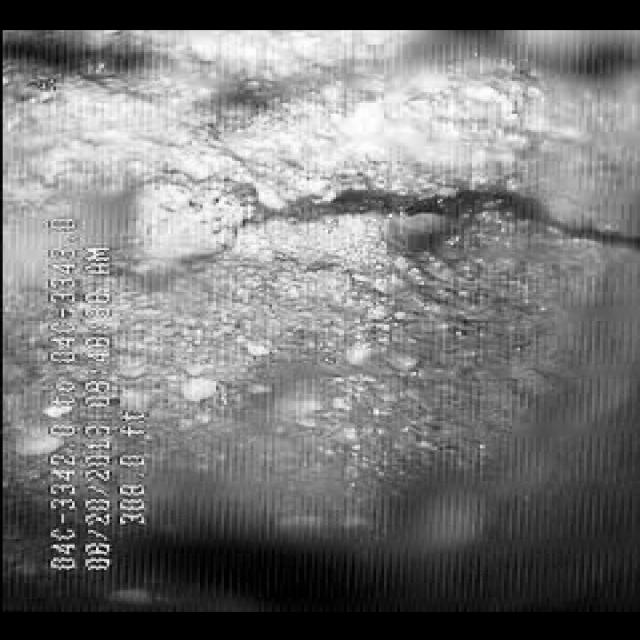Crack: (146, 123, 632, 291)
